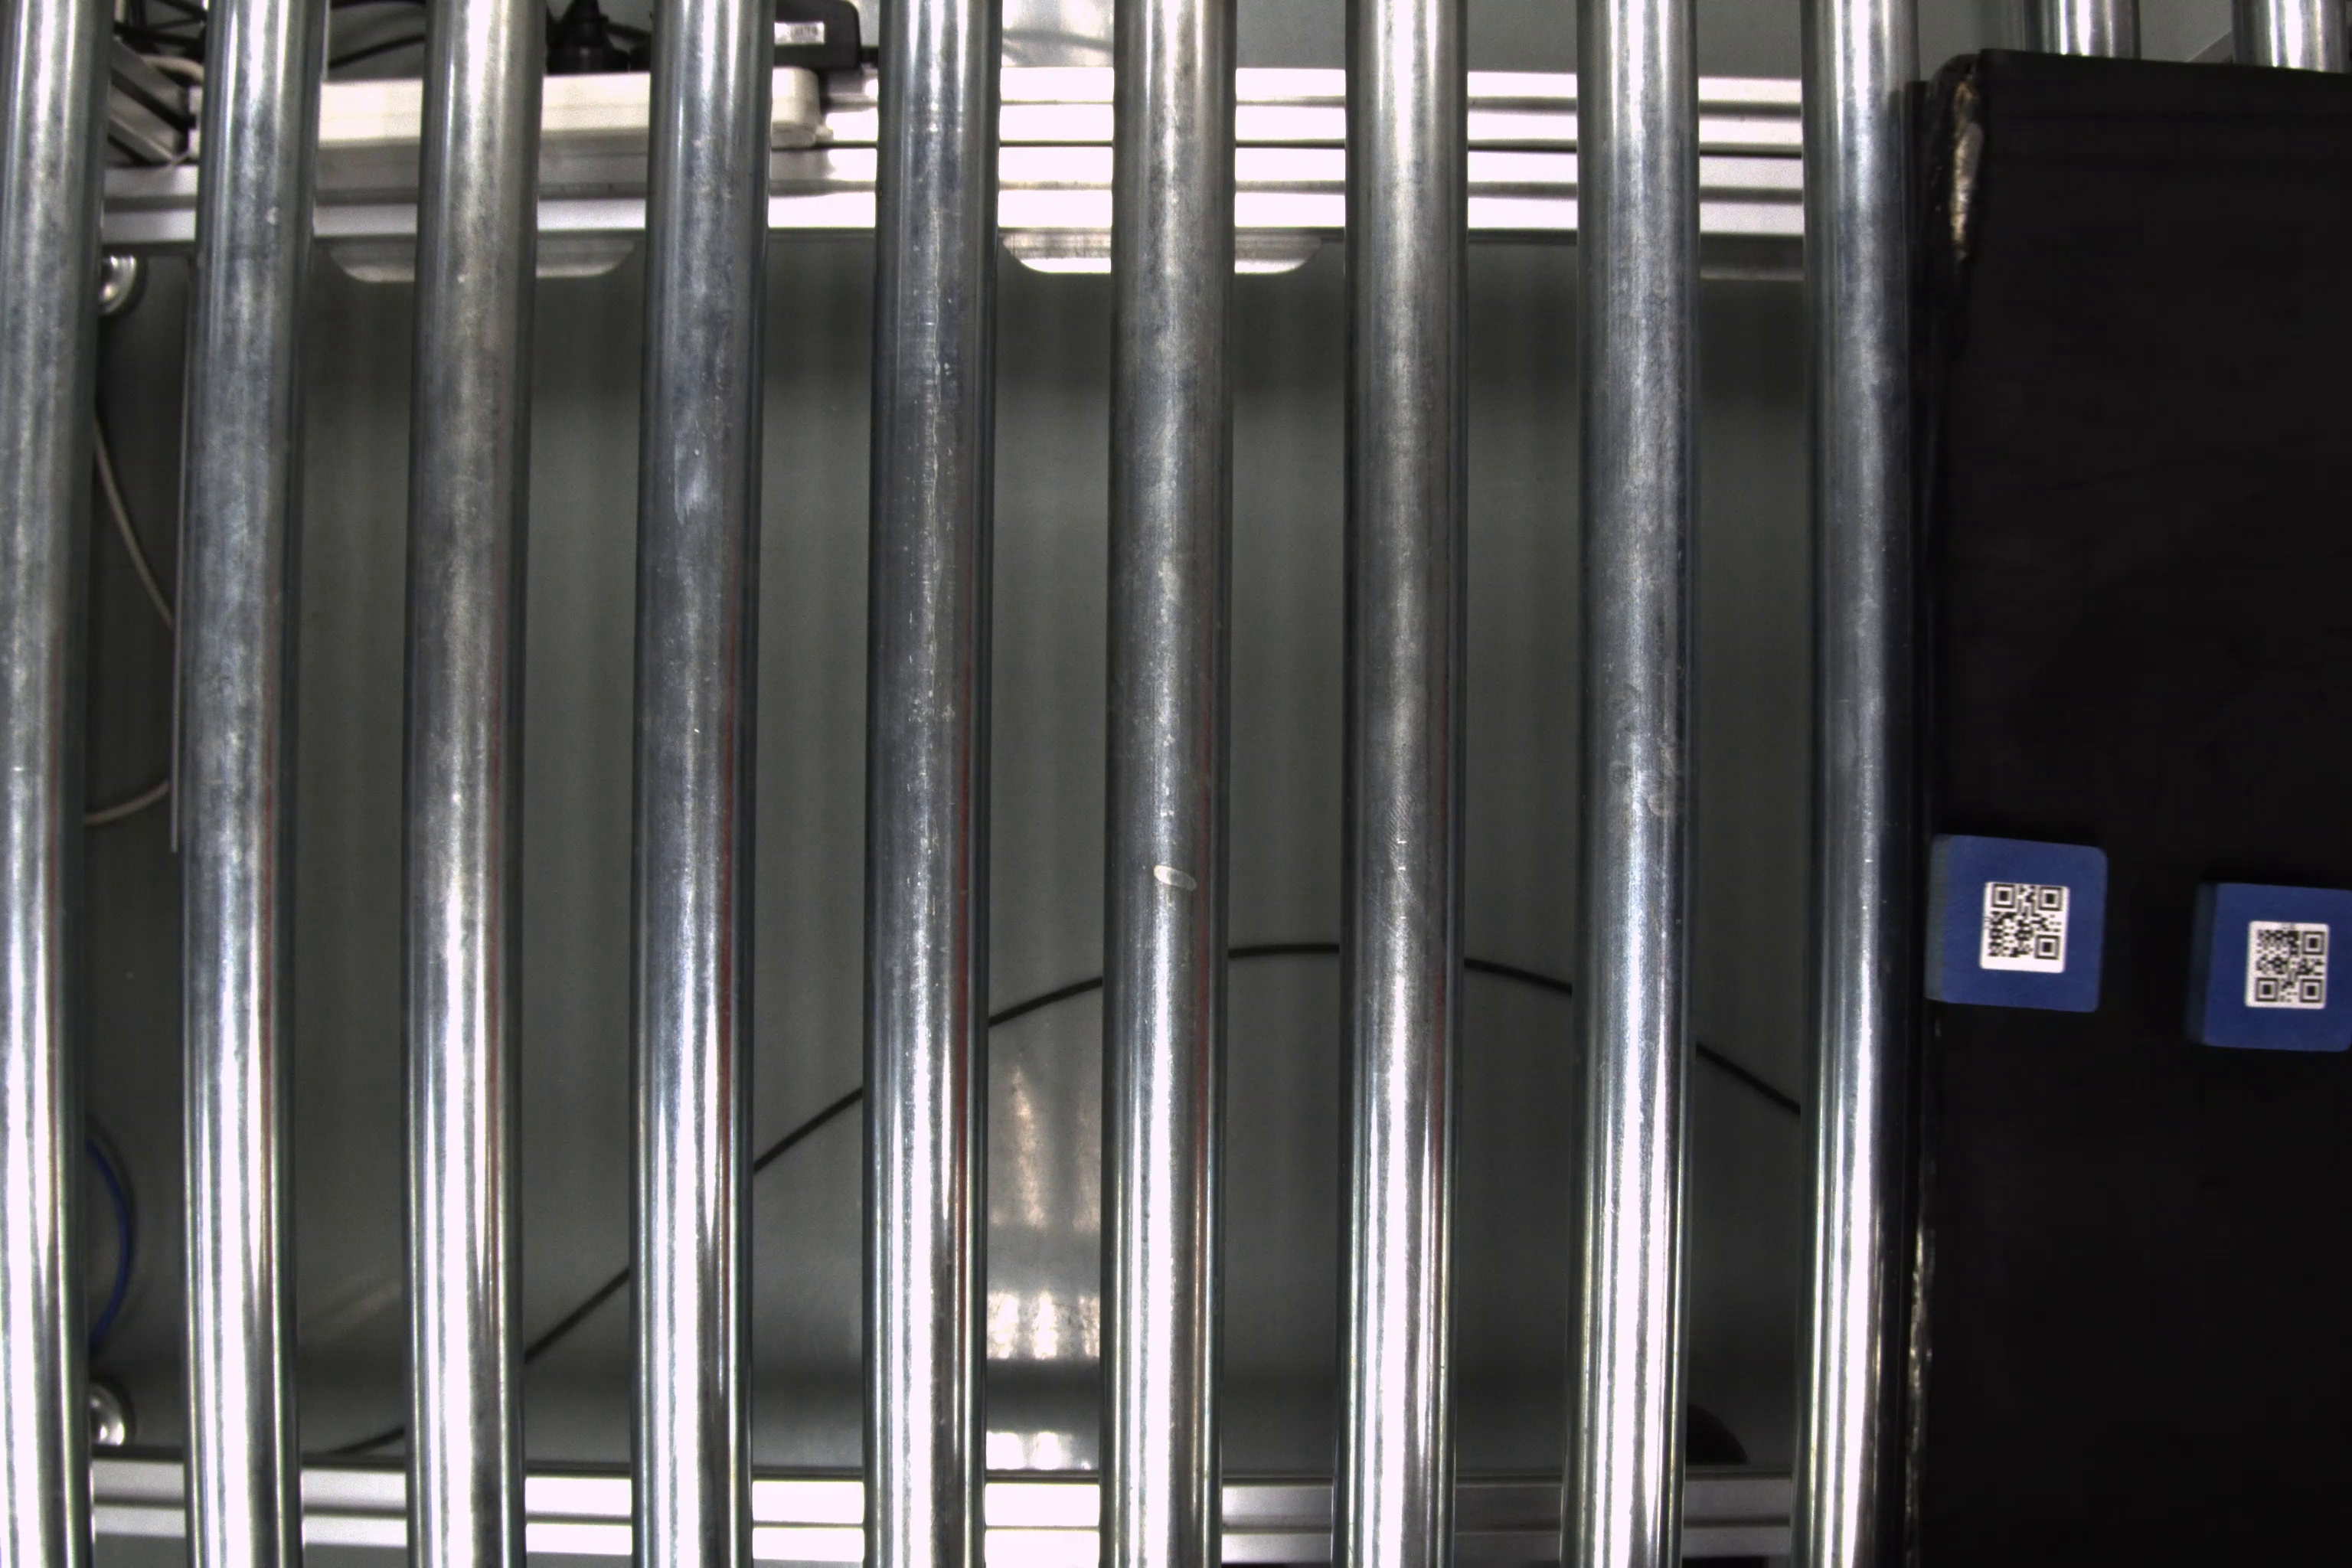wood: (1921, 829, 2107, 1015), (2189, 880, 2348, 1057)
